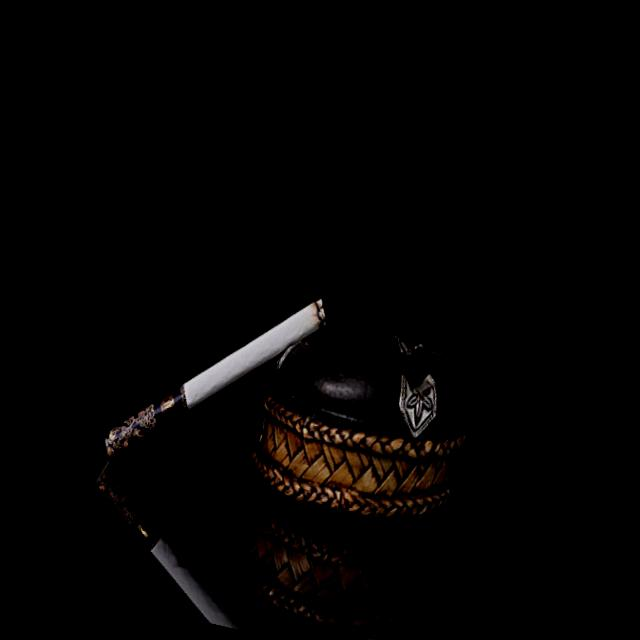smoke: (89, 245, 338, 510)
